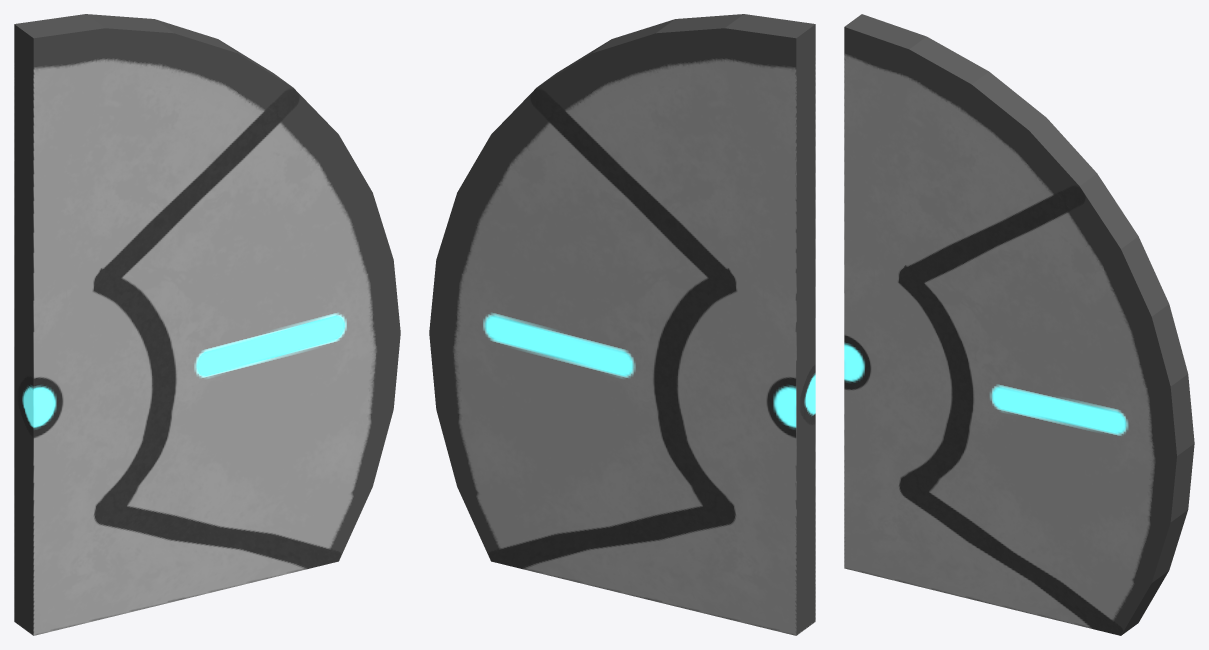
The model's file is DoorR.fbx.
3 renders of one model, left to right at view 1: azimuth 30°, elevation 25°; view 2: azimuth 150°, elevation 25°; view 3: azimuth 330°, elevation 25°, orthographic. The views are drawn at different scales.
Parts seen in each view (by area): view 1: Circle.002; view 2: Circle.002; view 3: Circle.002.
Boxes of the visible parts, x1=… form: Circle.002: x1=14, y1=14, x2=400, y2=635; Circle.002: x1=429, y1=14, x2=815, y2=635; Circle.002: x1=844, y1=14, x2=1194, y2=635.
Bounding box in the file's own units: 133 × 207 × 12.17.
1 material, 1 textured.
